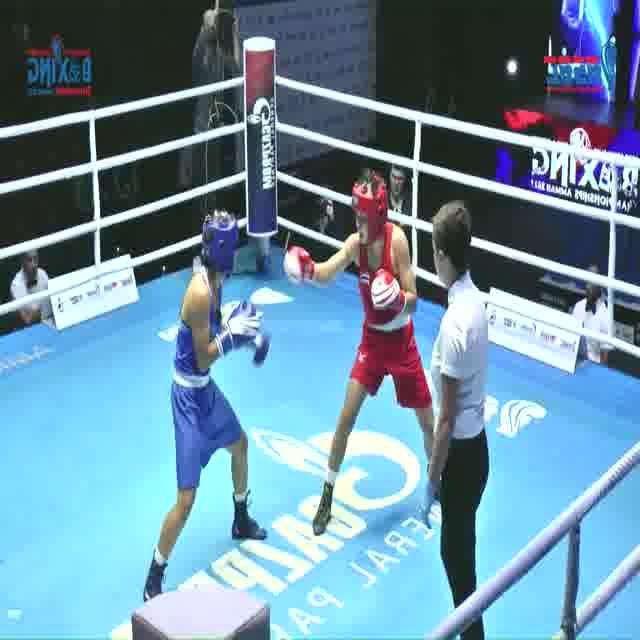blue-player: (140, 207, 270, 617)
red-player: (280, 163, 442, 542)
referee: (414, 197, 496, 640)
